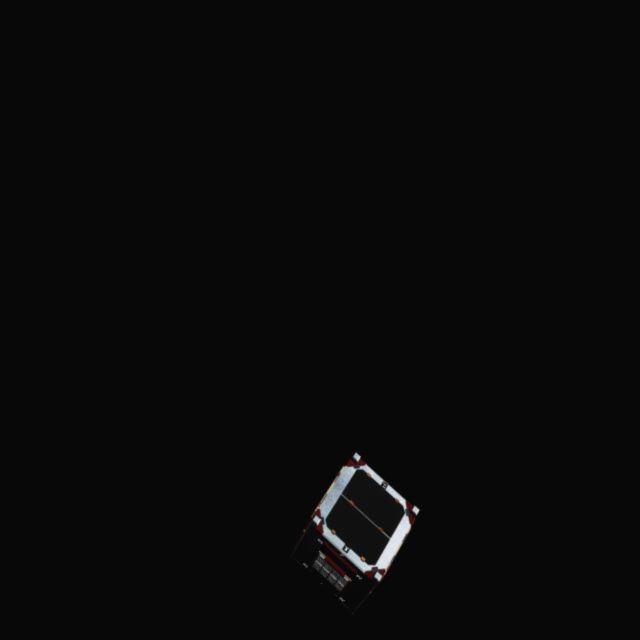medium_debris: (285, 451, 423, 613)
